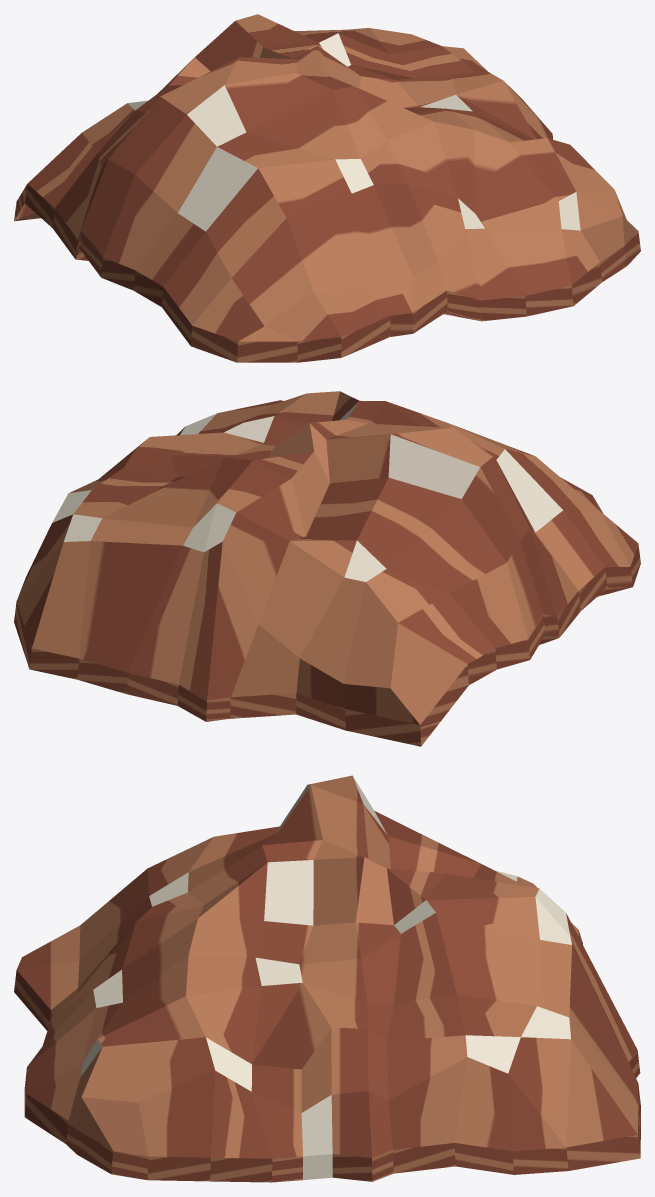
The model's file is choppedAlmonds.fbx.
3 renders of one model, top to bottom at view 1: azimuth 30°, elevation 25°; view 2: azimuth 150°, elevation 25°; view 3: azimuth 270°, elevation 25°, orthographic. The views are drawn at different scales.
Parts seen in each view (by area): view 1: choppedAlmonds; view 2: choppedAlmonds; view 3: choppedAlmonds.
Boxes of the visible parts, x1,y1,x2,y2 form: choppedAlmonds: (14, 14, 640, 362); choppedAlmonds: (14, 391, 640, 746); choppedAlmonds: (14, 775, 640, 1182).
Size of the model in its own units: 2.34 by 0.9922 by 2.35.
2 materials, 1 textured.
